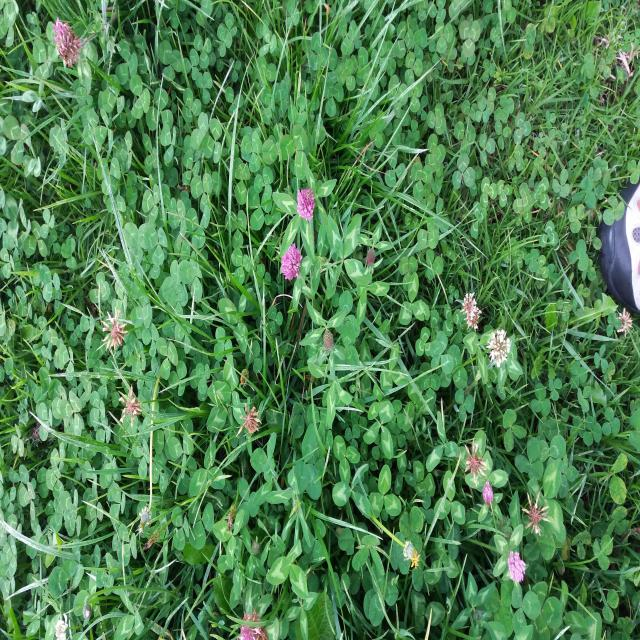Four Leaf Clover: (325, 214, 372, 300), (429, 330, 454, 374)
